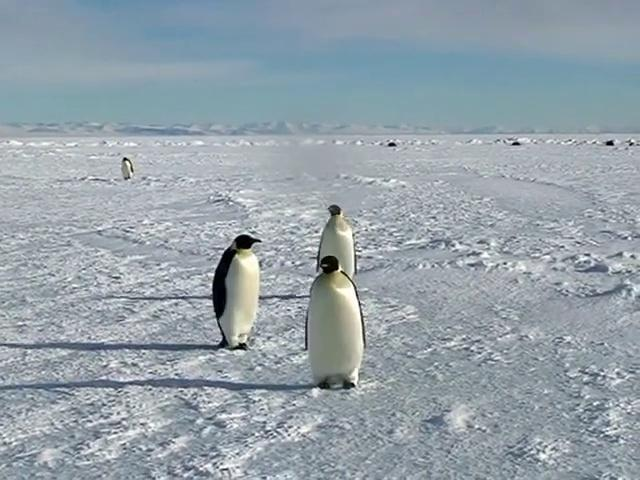animal: (317, 206, 357, 278)
